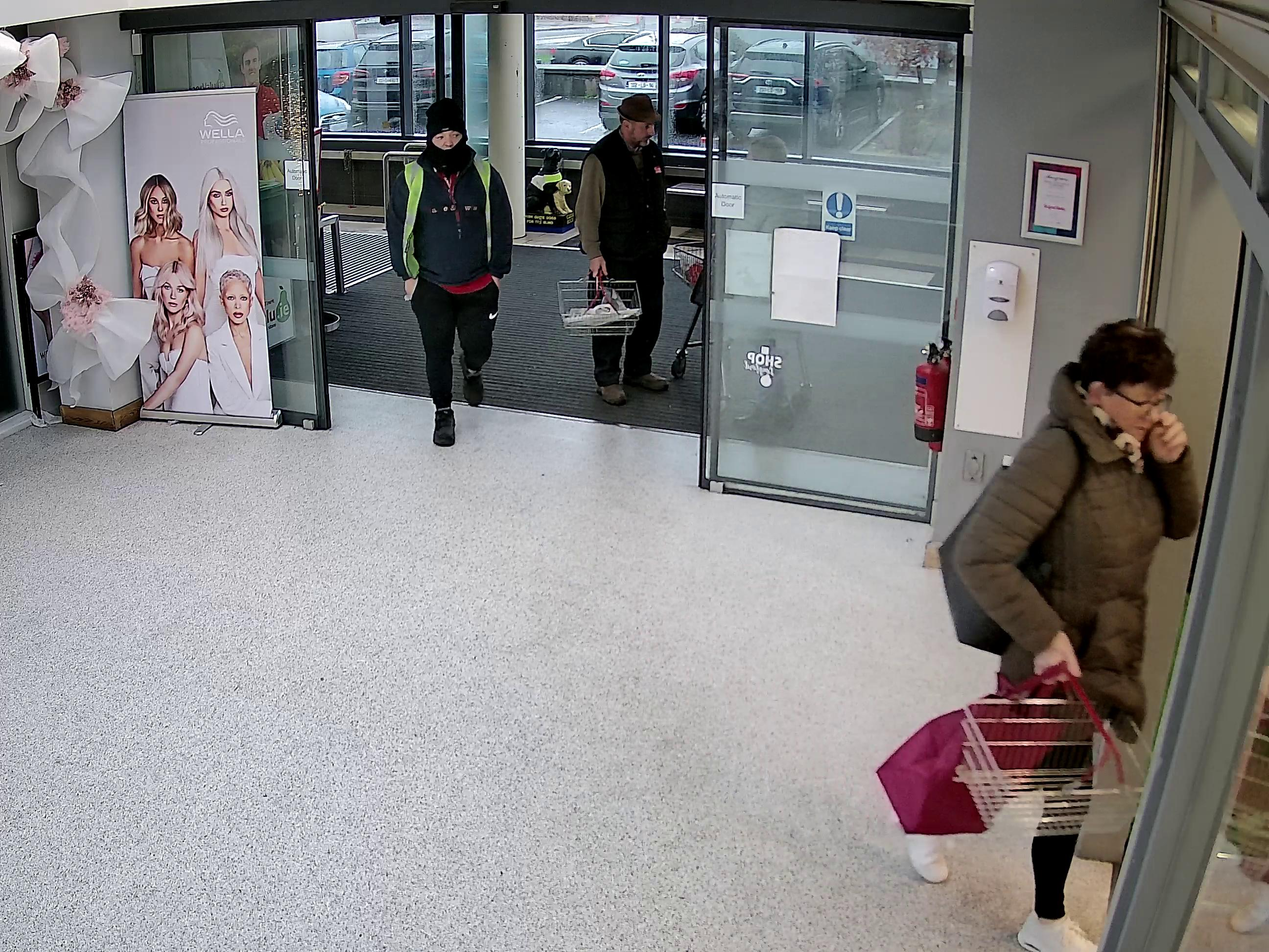backpack-or-handbag: (939, 458, 1050, 648)
empty-basket: (957, 665, 1164, 840), (557, 274, 642, 336)
empty-shopping-bags: (878, 674, 1063, 833), (567, 291, 637, 331)
person: (902, 318, 1202, 952), (575, 97, 670, 408)
person-with-basket-trolly-and-shopping-bag: (557, 97, 670, 410)
person-with-basket-trolly-shopping-bag-s-and-backpack-handbag: (878, 318, 1201, 952)
